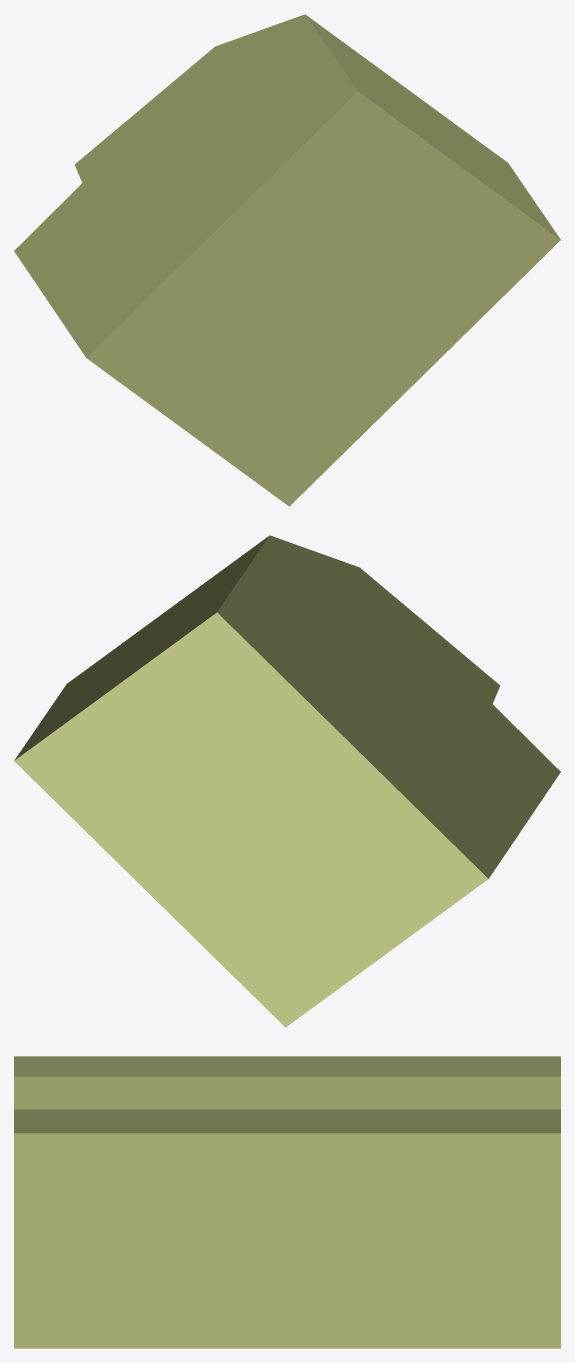
3 renders of one model, top to bottom at view 1: azimuth 30°, elevation 25°; view 2: azimuth 150°, elevation 25°; view 3: azimuth 270°, elevation 25°, orthographic. The views are drawn at different scales.
Visible parts, largest first — view 1: 0_0_1_3_2_2_2_3_3_3_0; view 2: 0_0_1_3_2_2_2_3_3_3_0; view 3: 0_0_1_3_2_2_2_3_3_3_0.
Boxes of the visible parts, x1=… form: 0_0_1_3_2_2_2_3_3_3_0: x1=14, y1=14, x2=560, y2=506; 0_0_1_3_2_2_2_3_3_3_0: x1=14, y1=535, x2=560, y2=1027; 0_0_1_3_2_2_2_3_3_3_0: x1=14, y1=1056, x2=560, y2=1348.
Bounding box in the file's own units: 8.8 × 7.1 × 9.
